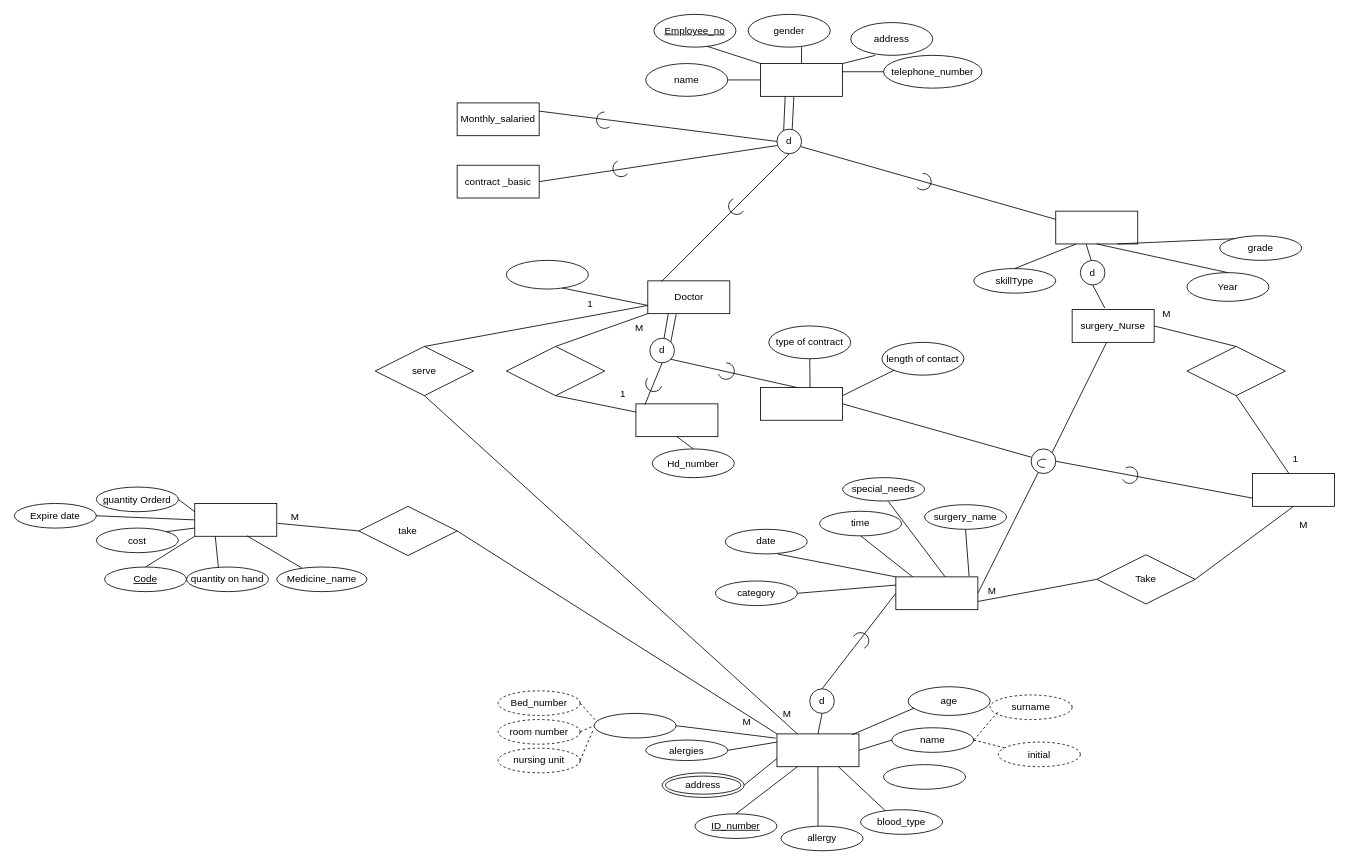
Image size: 1349x865. Some labels were removed from this diagram. The shapes that lost their labels are listed below. From the top down, each one's box as (x1, y1, x2, y2) in pixels, then its label:
(760, 63, 843, 96): Staff
(1055, 210, 1138, 244): Nurse
(506, 260, 588, 289): speciality
(506, 346, 605, 396): Monitor
(1186, 346, 1285, 396): perform
(635, 403, 718, 437): Head_Doctor
(760, 387, 843, 420): surgeon
(1252, 473, 1335, 506): Surgery
(194, 503, 277, 536): Medicine
(895, 576, 978, 610): Surgery_need patient
(593, 713, 676, 738): location
(776, 733, 859, 767): Patient
(883, 764, 966, 789): tele_number
